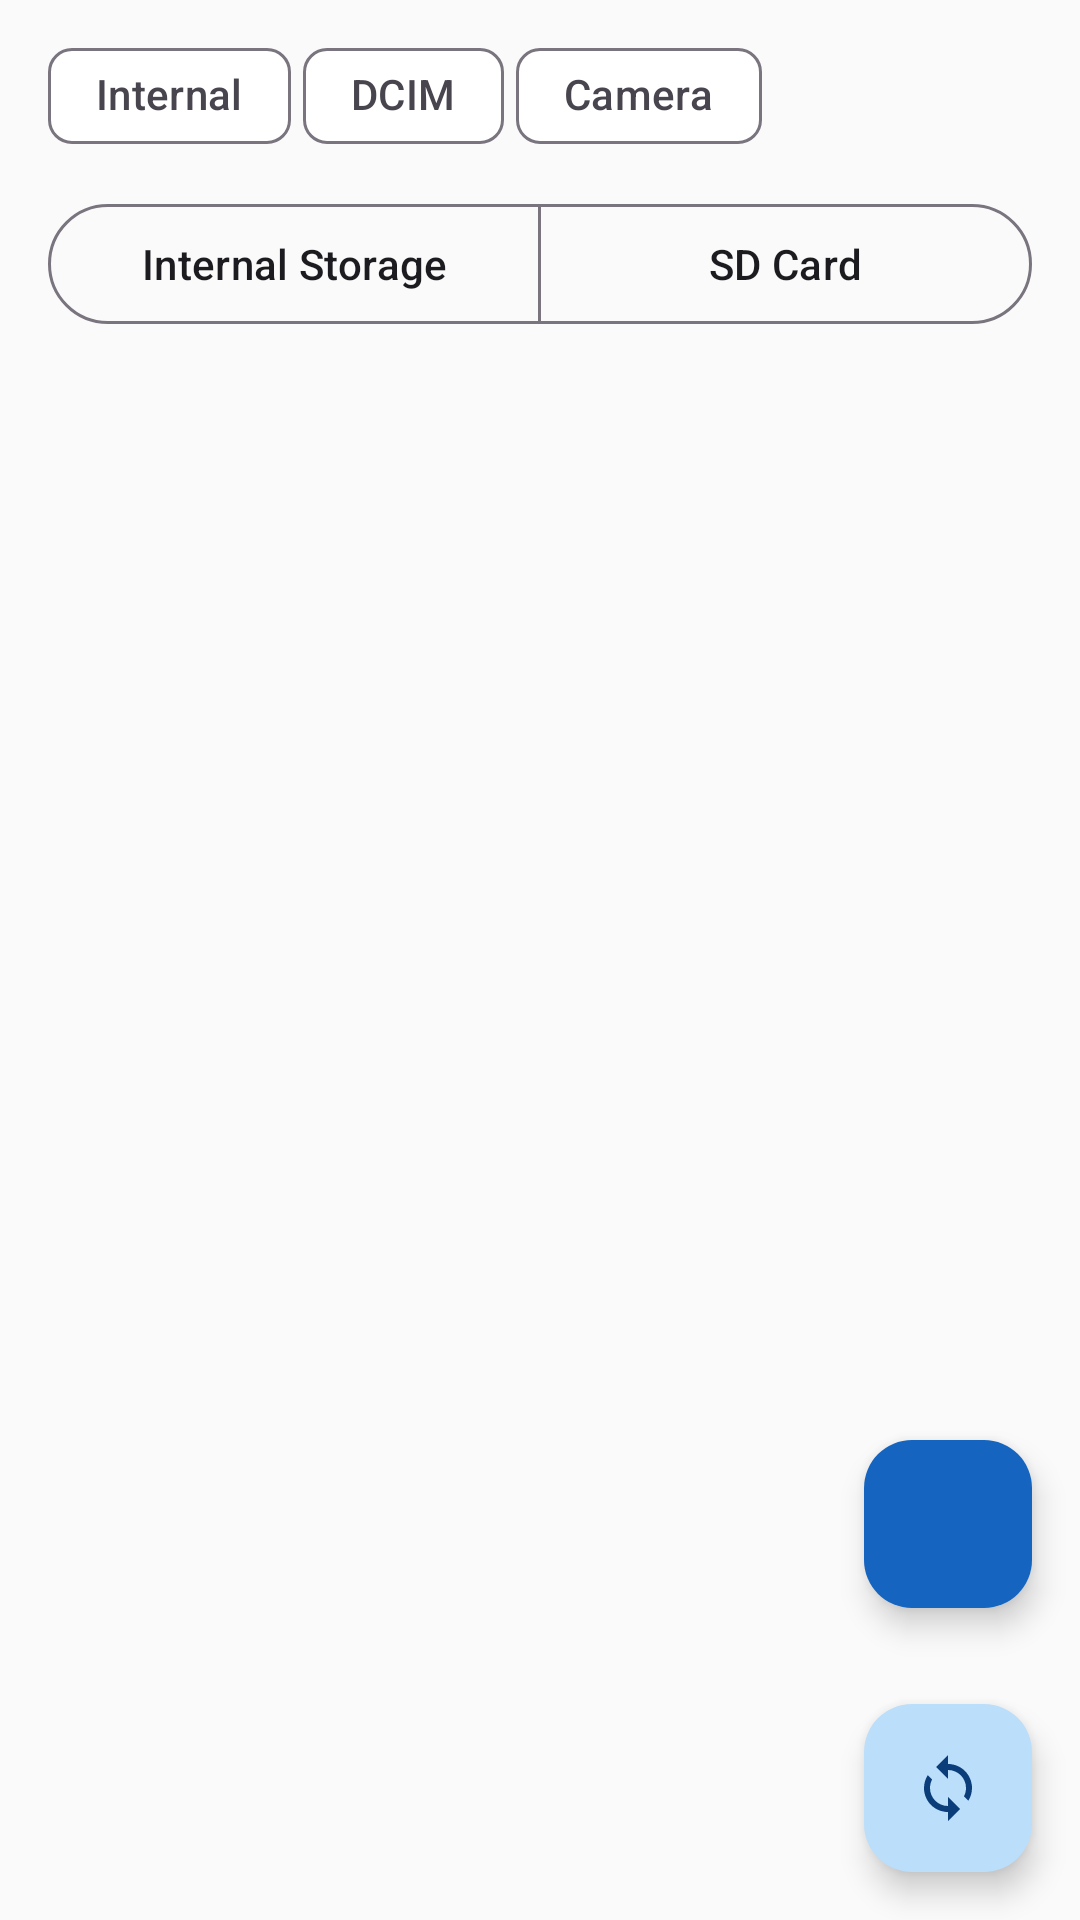

Where icons sit on this 1080 x 1920 app screen, as (x1, y1, x2, y2):
recover: (864, 1704, 1032, 1872)
